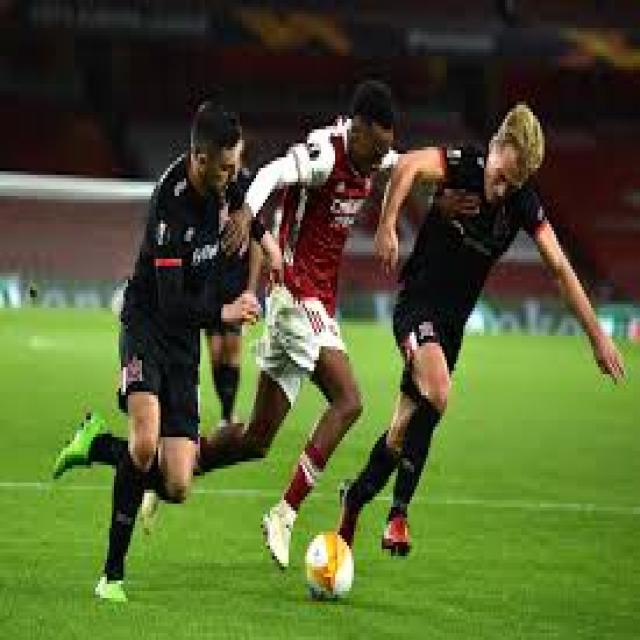collide: (233, 170, 270, 260), (400, 155, 424, 186)
hurt: (357, 122, 384, 177)
possible foul: (21, 71, 632, 604)
